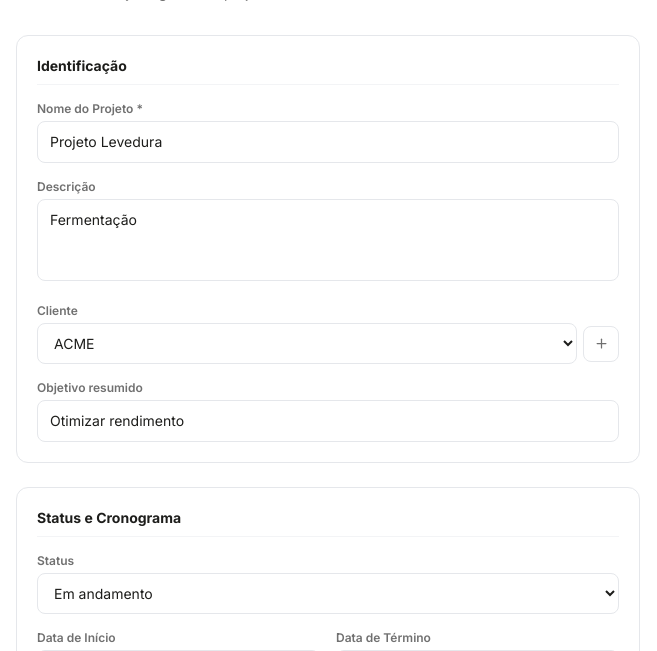
Scenario: ProjectSettingsClient › should keep save disabled until something actually changes
Type " II" into the field labelled "Nome do Projeto *" at {"x": 328, "y": 142}, box [37,121,619,163]
(page scrolled)
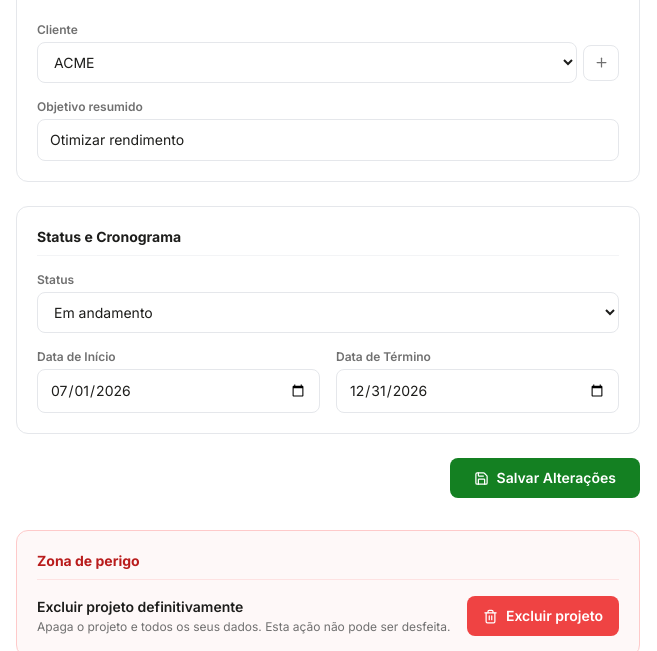
Now the button "Salvar Alterações" is enabled, box [450,458,640,498]
